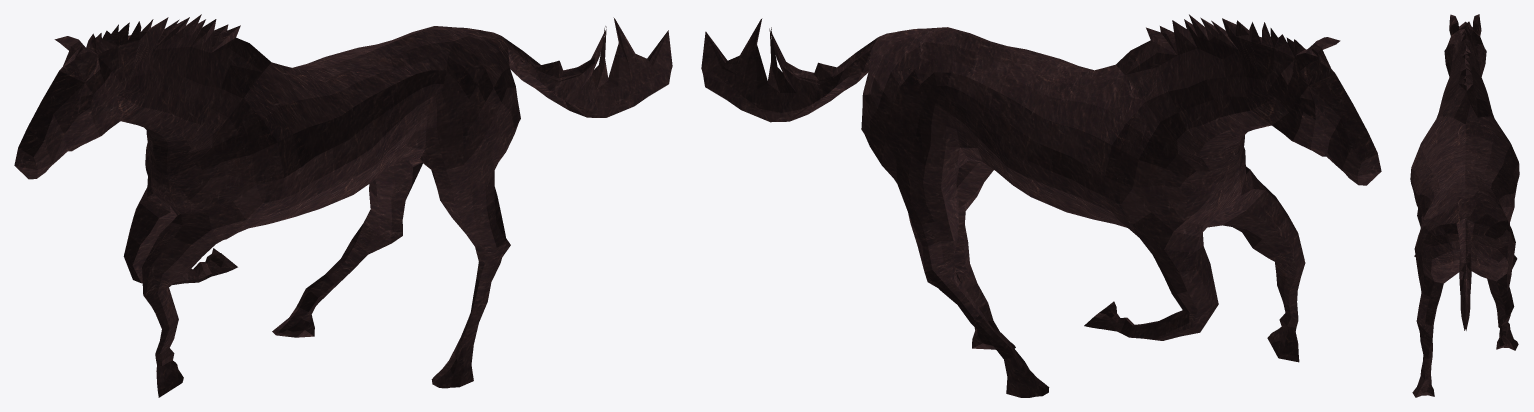
The picture shows the model from 3 angles, left to right: view 1: azimuth 30°, elevation 25°; view 2: azimuth 150°, elevation 25°; view 3: azimuth 270°, elevation 25°; orthographic projection. The views are drawn at different scales.
Visible parts, largest first — view 1: run_0; view 2: run_0; view 3: run_0.
Part boxes in pixels (x1,y1,x2,y2): run_0: [14, 14, 672, 397]; run_0: [701, 14, 1381, 397]; run_0: [1410, 14, 1519, 397].
Bounding box in the file's own units: 3.28 × 1.94 × 0.7093.
Materials: 1 (1 with a texture image).
